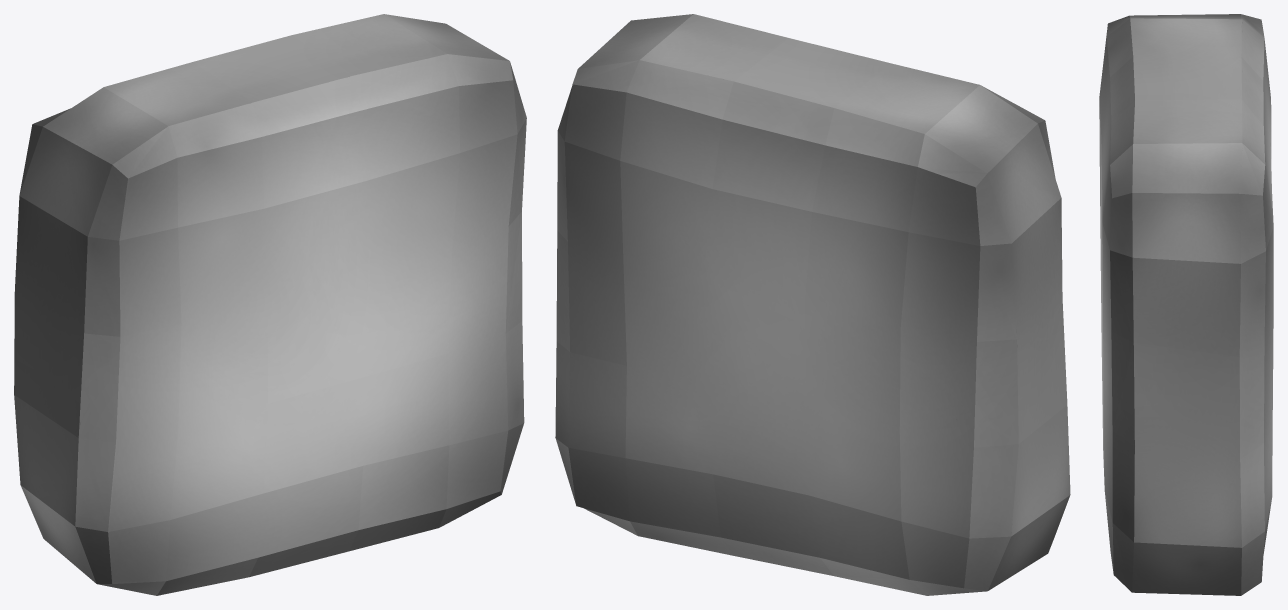
File: square.fbx
3 renders of one model, left to right at view 1: azimuth 30°, elevation 25°; view 2: azimuth 150°, elevation 25°; view 3: azimuth 270°, elevation 25°, orthographic. The views are drawn at different scales.
Visible parts, largest first — view 1: square; view 2: square; view 3: square.
Boxes of the visible parts, left/top/right/bottom form: square: left=14, top=14, right=526, bottom=595; square: left=555, top=14, right=1070, bottom=595; square: left=1099, top=14, right=1273, bottom=595.
Bounding box in the file's own units: 48.03 × 47.97 × 17.01.
